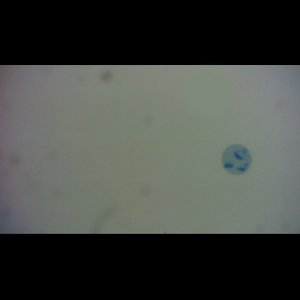aggregate reticulocyte: (220, 143, 253, 176)
